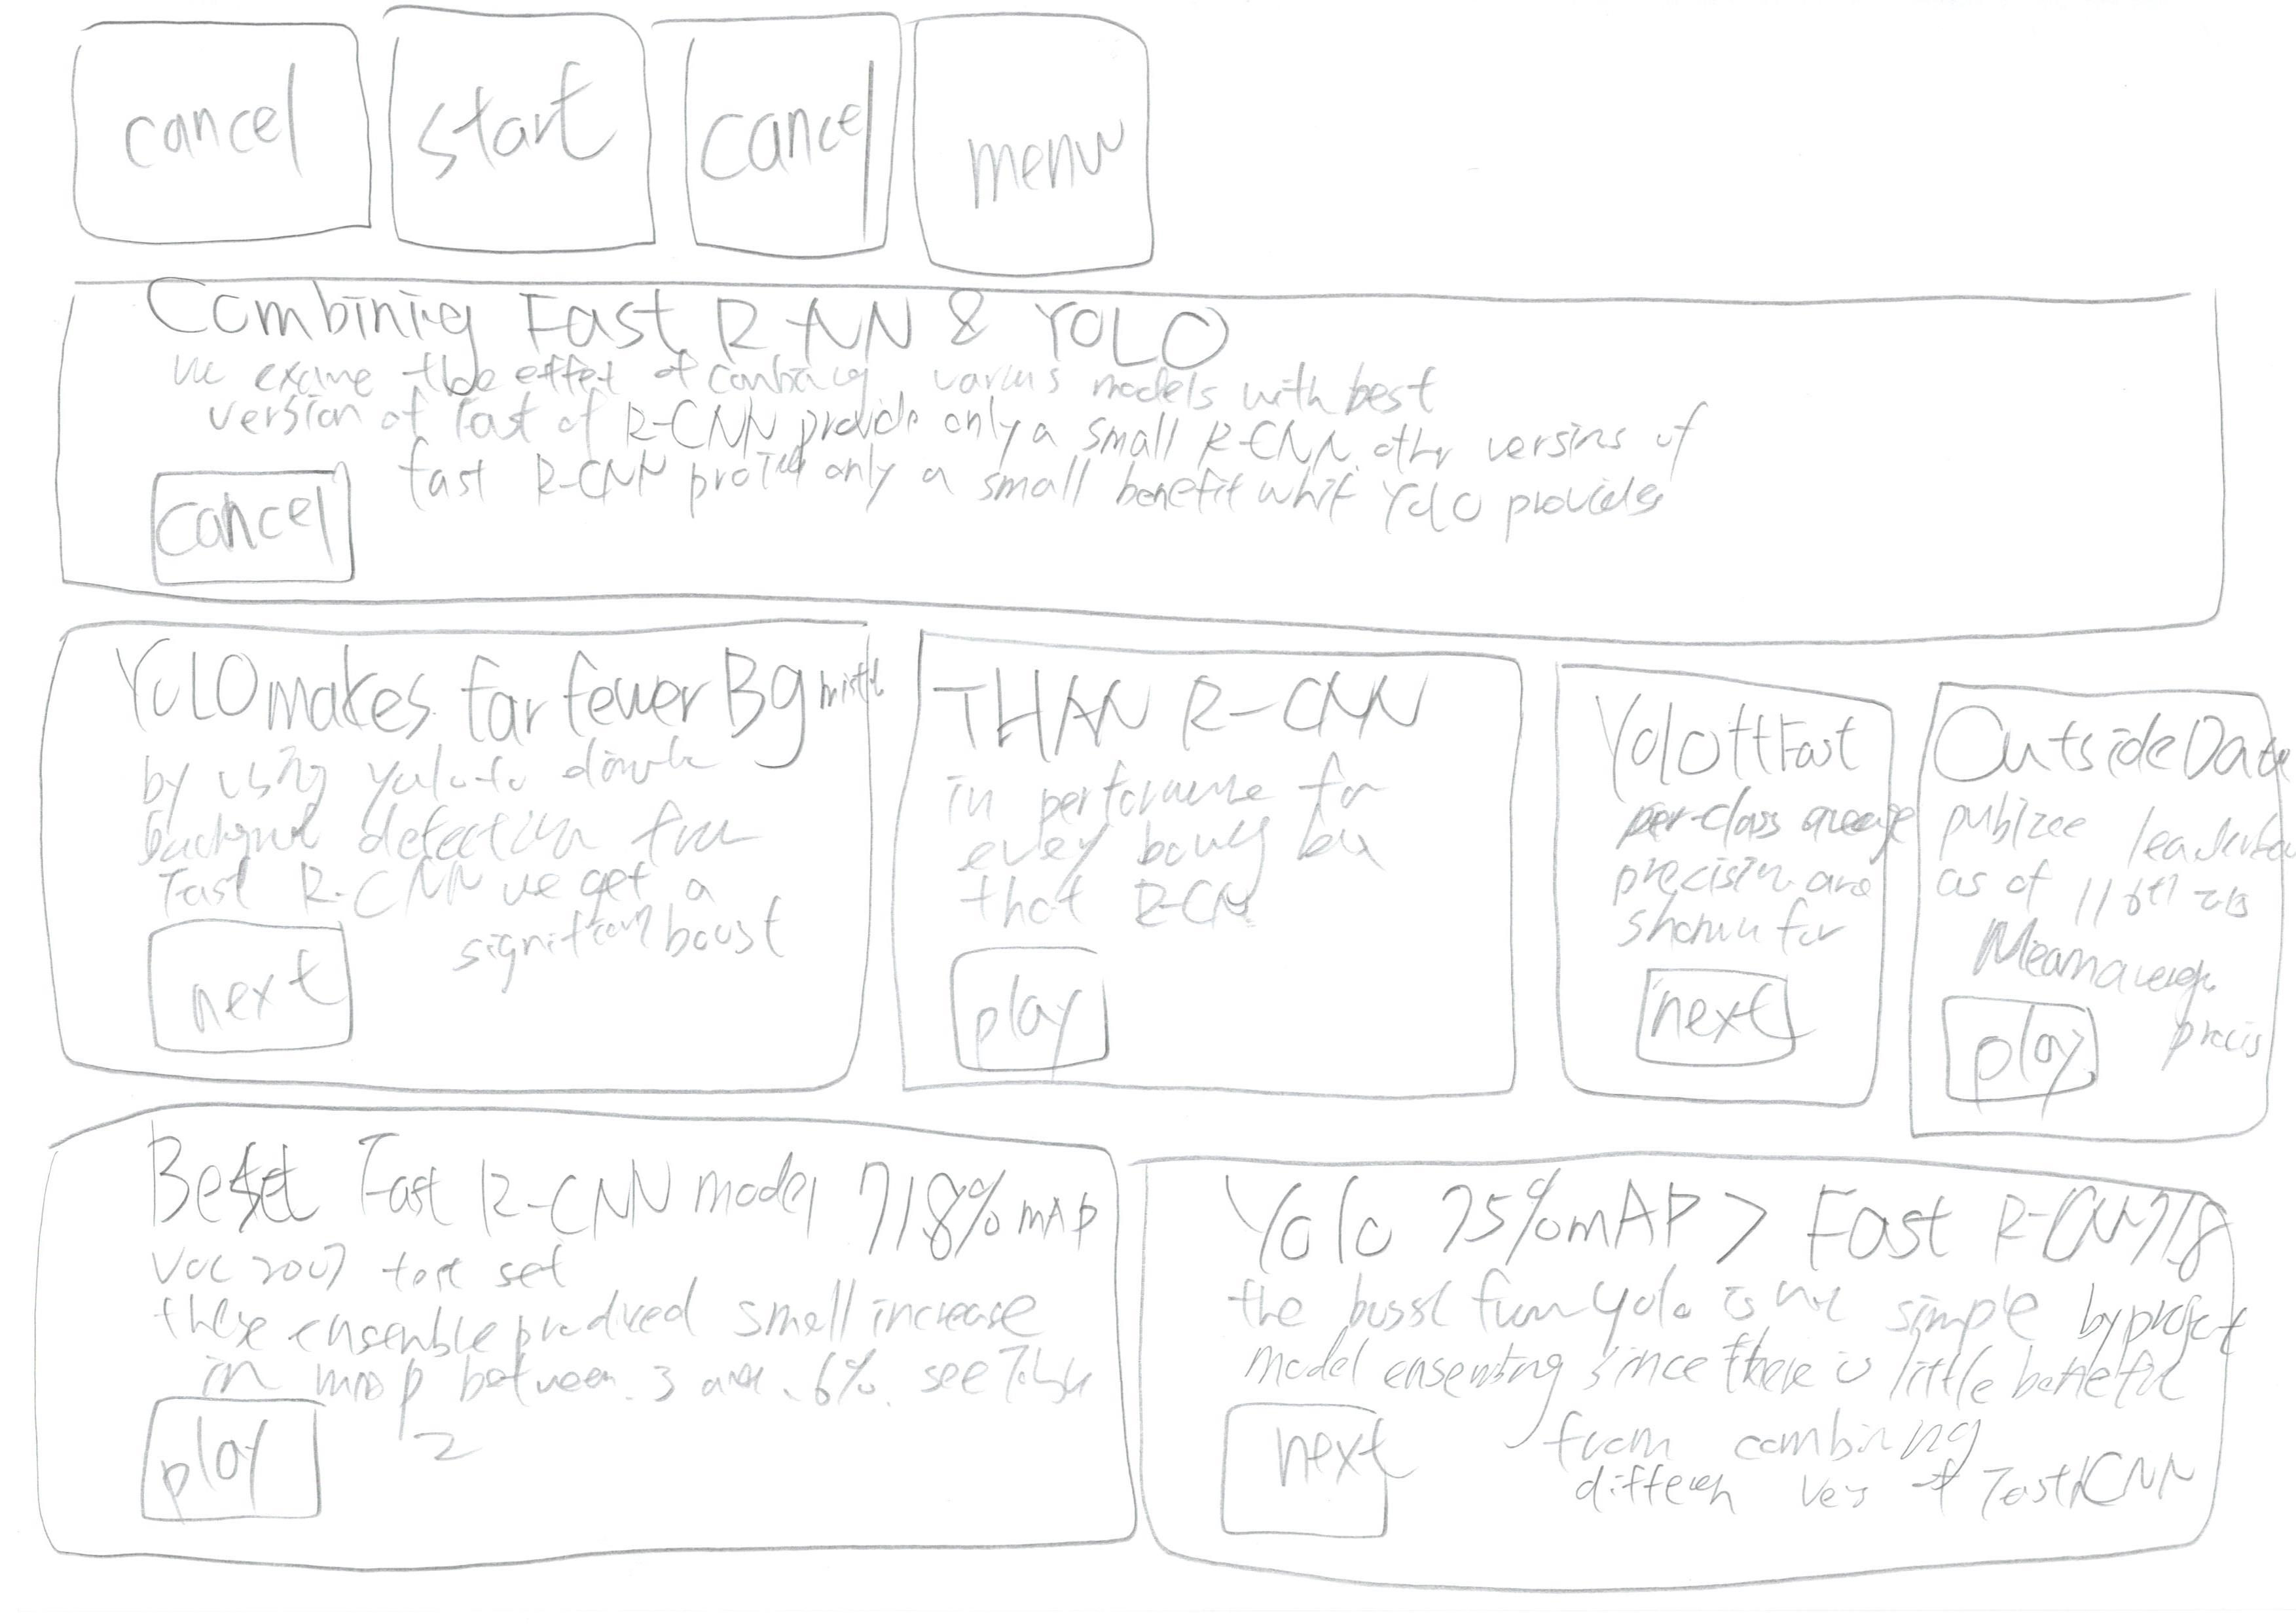double: (7, 1088, 1150, 1591), (1155, 1121, 2296, 1624)
quadruple: (5, 589, 905, 1137), (884, 592, 1558, 1144), (1501, 615, 1918, 1142), (1879, 633, 2296, 1158)
row: (5, 598, 2296, 1132), (5, 1090, 2296, 1624), (5, 244, 2296, 652), (9, 0, 2296, 295)
single: (11, 246, 2291, 671)
small-title: (1211, 1153, 2261, 1294), (135, 1128, 1106, 1267), (98, 627, 810, 761), (162, 278, 1215, 350), (941, 652, 1440, 770), (1929, 698, 2278, 803), (1580, 691, 1871, 800)
text: (394, 359, 1704, 531), (162, 346, 1756, 459), (163, 1234, 1069, 1387), (403, 1287, 1053, 1487), (1537, 1318, 2203, 1513), (1231, 1262, 2210, 1392), (153, 749, 821, 924), (928, 756, 1426, 933), (1953, 798, 2252, 990), (443, 828, 802, 986), (1591, 801, 1883, 951), (2141, 953, 2270, 1072)
